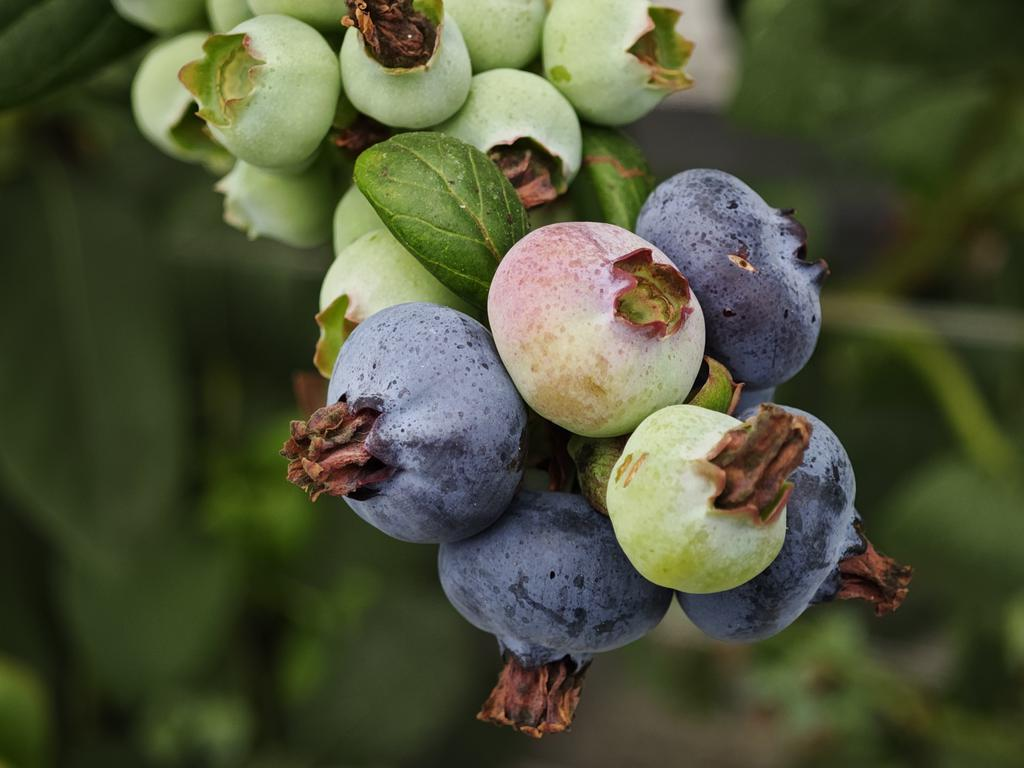RipeBlueBerry: (313, 312, 522, 547)
Semi-RipeBlueBerry: (490, 224, 701, 432)
UnripeBlueBerry: (613, 398, 794, 596), (196, 18, 337, 167), (548, 3, 699, 116), (341, 2, 474, 130)
